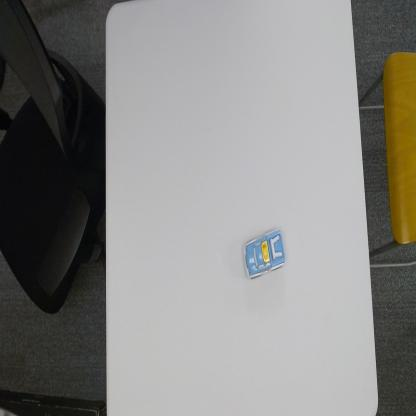Car: (242, 226, 288, 282)
